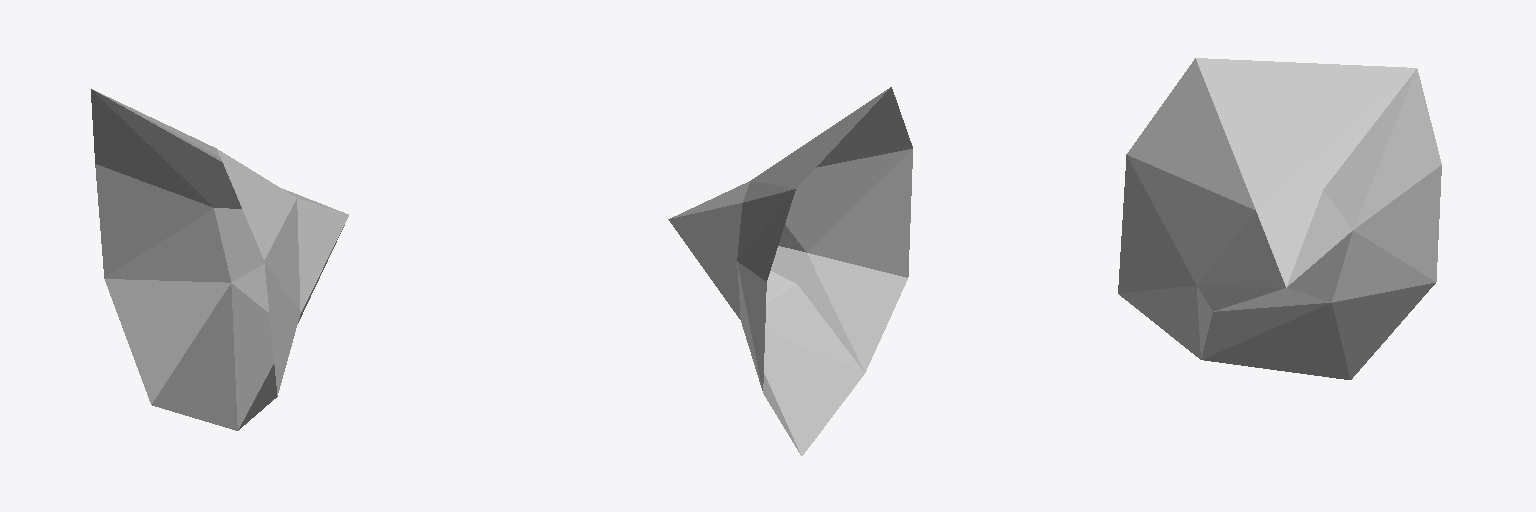
Rendered from mountain.obj.
3 renders of one model, left to right at view 1: azimuth 30°, elevation 25°; view 2: azimuth 150°, elevation 25°; view 3: azimuth 270°, elevation 25°, orthographic.
Parts seen in each view (by area): view 1: mountain.004_mountain_Plane.001; view 2: mountain.004_mountain_Plane.001; view 3: mountain.004_mountain_Plane.001.
Boxes of the visible parts, box(x1,y1,x2,y2) form: mountain.004_mountain_Plane.001: box(91, 89, 348, 430); mountain.004_mountain_Plane.001: box(668, 87, 912, 455); mountain.004_mountain_Plane.001: box(1118, 58, 1441, 379).
Size of the model in its own units: 0.2122 by 0.332 by 0.308.